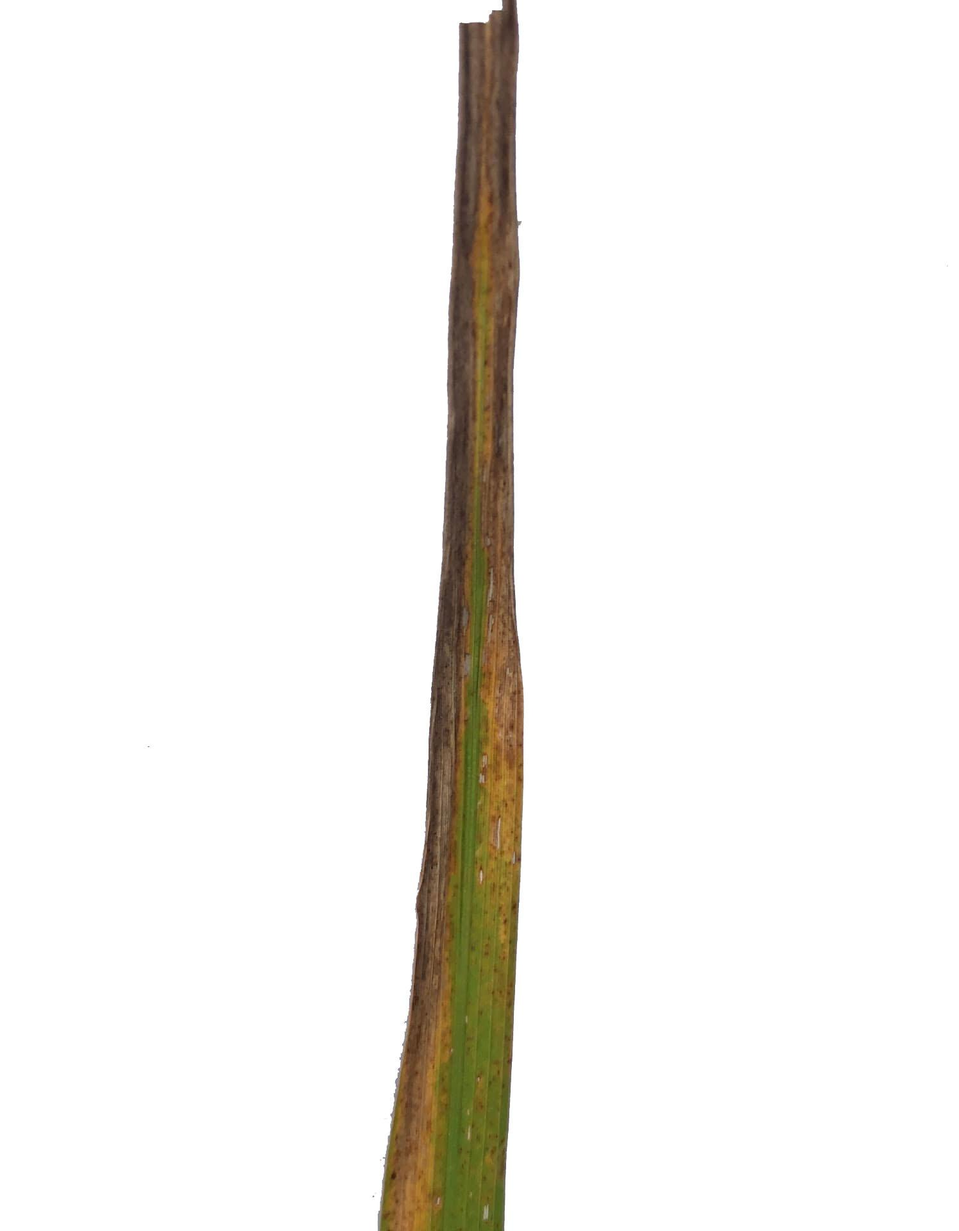Rice blast: (378, 0, 527, 1231)
